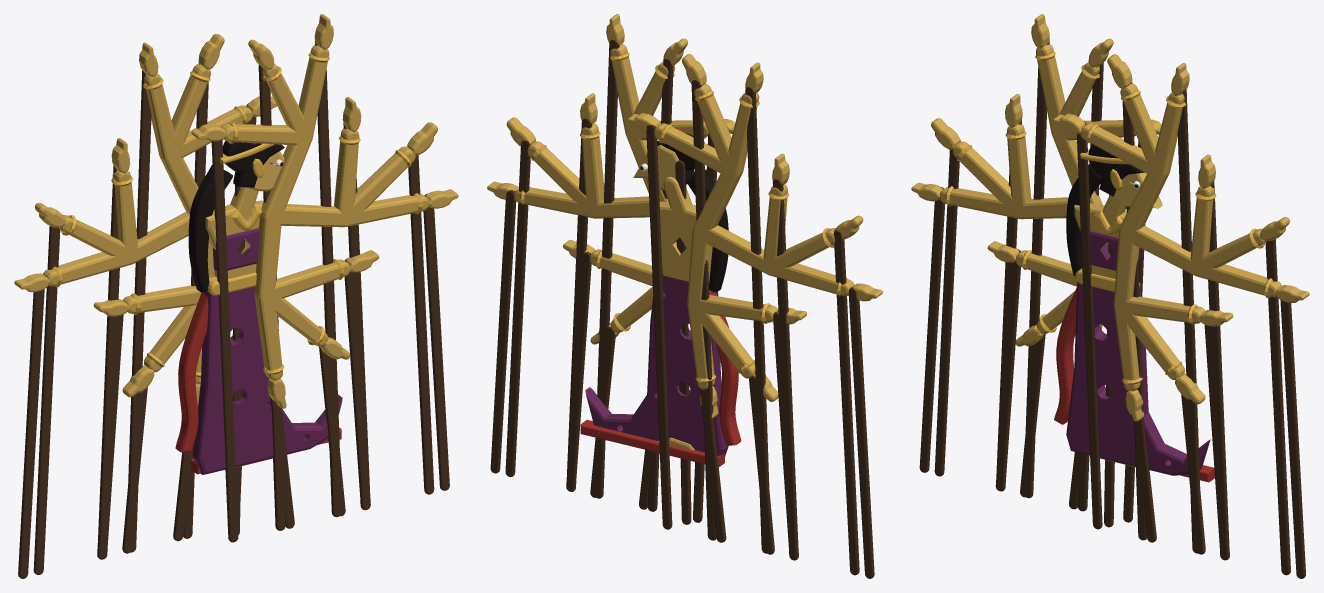
File: sinta.glb
3 renders of one model, left to right at view 1: azimuth 30°, elevation 25°; view 2: azimuth 150°, elevation 25°; view 3: azimuth 330°, elevation 25°, orthographic. The views are drawn at different scales.
Parts seen in each view (by area): view 1: body, front_20, back_20, back_10, front_10, front_22, front_11, back_11, front_00, front_02, back_12, back_02 (+8 smaller); view 2: body, back_20, back_10, back_22, front_20, front_10, front_11, back_11, back_21, back_00, back_12, front_02 (+7 smaller); view 3: body, front_20, front_10, back_20, front_22, back_10, back_11, front_11, front_12, front_00, front_21, back_02 (+7 smaller).
Part boxes in pixels (bbox=[...]): body: bbox=[175, 164, 342, 534]; front_20: bbox=[260, 14, 340, 517]; back_20: bbox=[128, 42, 198, 552]; back_10: bbox=[14, 212, 189, 578]; front_10: bbox=[260, 189, 458, 490]; front_22: bbox=[191, 122, 311, 542]; front_11: bbox=[344, 122, 437, 494]; back_11: bbox=[33, 203, 134, 574]; front_00: bbox=[254, 210, 294, 528]; front_02: bbox=[254, 250, 379, 509]; back_12: bbox=[97, 138, 137, 559]; back_02: bbox=[93, 285, 201, 559]; body: bbox=[580, 160, 741, 524]; back_20: bbox=[693, 62, 769, 553]; back_10: bbox=[693, 225, 882, 578]; back_22: bbox=[627, 113, 742, 529]; front_20: bbox=[595, 14, 668, 498]; front_10: bbox=[487, 181, 649, 473]; front_11: bbox=[505, 117, 594, 477]; back_11: bbox=[767, 215, 863, 575]; back_21: bbox=[682, 54, 737, 540]; back_00: bbox=[687, 226, 726, 542]; back_12: bbox=[763, 153, 798, 559]; front_02: bbox=[563, 240, 652, 491]; body: bbox=[1054, 163, 1214, 527]; front_20: bbox=[1119, 63, 1200, 553]; front_10: bbox=[1119, 225, 1309, 578]; back_20: bbox=[1025, 14, 1102, 498]; front_22: bbox=[1052, 113, 1169, 529]; back_10: bbox=[911, 182, 1101, 472]; back_11: bbox=[931, 118, 1020, 476]; front_11: bbox=[1194, 217, 1290, 575]; front_12: bbox=[1190, 154, 1229, 560]; front_00: bbox=[1113, 226, 1156, 542]; front_21: bbox=[1107, 54, 1163, 540]; back_02: bbox=[987, 241, 1077, 490].
Bounding box in the file's own units: 1.02 × 1.16 × 0.1094.
